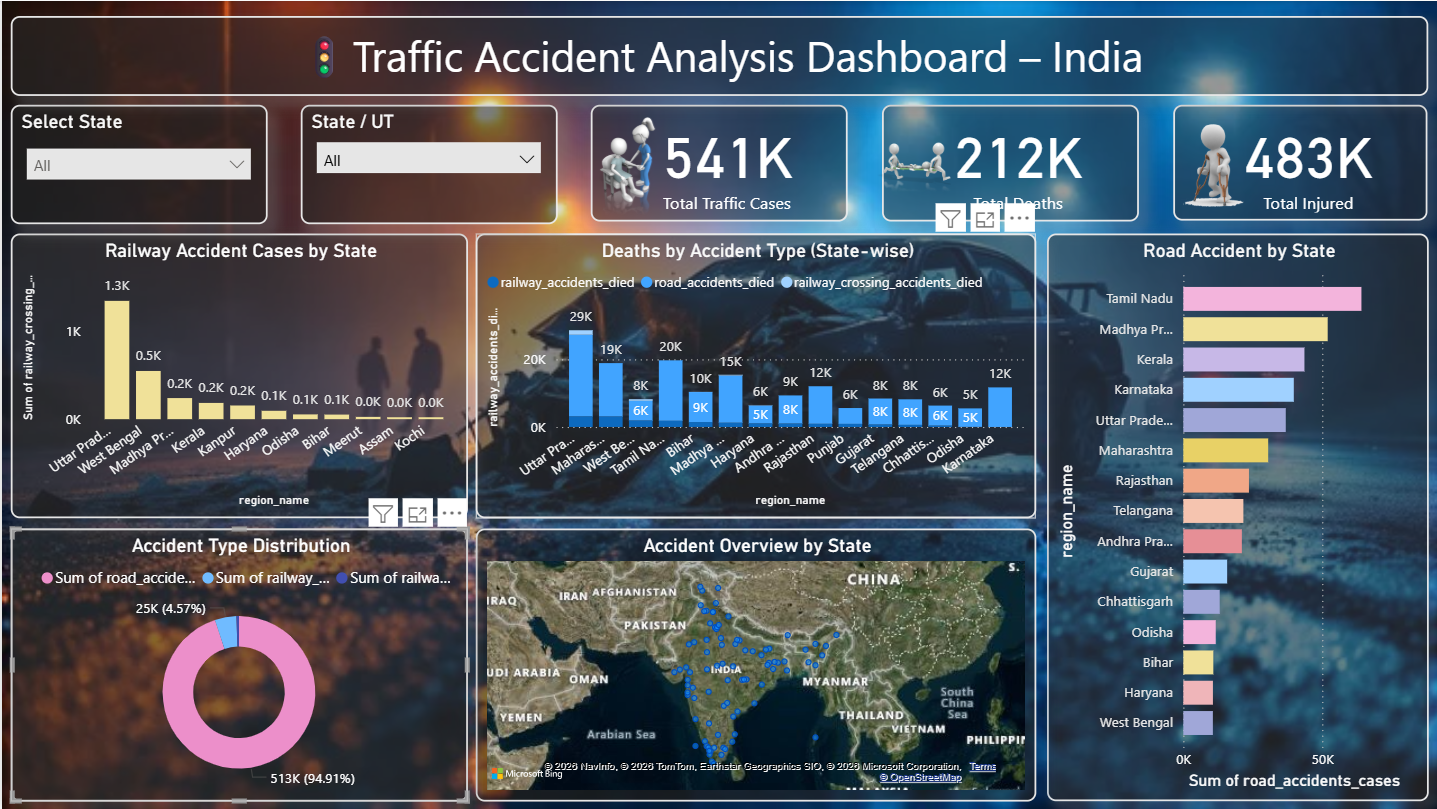

This screenshot's page, from the dashboard's own definition file:
{"tool":"powerbi","page":{"name":"Traffic Accident Analysis – India","canvas":[1280,720],"ordinal":0},"visuals":[{"type":"card","title":"Total Accident Cases","fields":{"Values":["cleaned_traffic_accident_data_3.Total Traffic Cases"]},"box":[524.6,92.4,228.6,103.7],"z":0},{"type":"card","title":"Total Injured","fields":{"Values":["cleaned_traffic_accident_data_3.Total Injured"]},"box":[1043,91.9,226.7,103.5],"z":1000},{"type":"card","title":"Total Deaths","fields":{"Values":["cleaned_traffic_accident_data_3.Total Deaths"]},"box":[783.1,92.4,228.6,103.7],"z":2000},{"type":"barChart","title":"Road Accident by State","fields":{"Category":["cleaned_traffic_accident_data_3.region_name"],"Y":["Sum(cleaned_traffic_accident_data_3.road_accidents_cases)"]},"box":[930.5,207.3,339.7,505.9],"z":3000},{"type":"clusteredColumnChart","title":"Railway Accident Cases by State","fields":{"Category":["cleaned_traffic_accident_data_3.region_name"],"Y":["Sum(cleaned_traffic_accident_data_3.railway_crossing_accidents_cases)"]},"box":[7.5,207.3,407.2,253.6],"z":4000},{"type":"donutChart","title":"Accident Type Distribution","fields":{"Y":["Sum(cleaned_traffic_accident_data_3.road_accidents_cases)","Sum(cleaned_traffic_accident_data_3.railway_accidents_cases)","Sum(cleaned_traffic_accident_data_3.railway_crossing_accidents_cases)"]},"box":[7.5,469.6,407.2,243.6],"z":5000},{"type":"columnChart","title":"Deaths by Accident Type (State-wise)","fields":{"Category":["cleaned_traffic_accident_data_3.region_name"],"Y":["Sum(cleaned_traffic_accident_data_3.railway_accidents_died)","Sum(cleaned_traffic_accident_data_3.road_accidents_died)","Sum(cleaned_traffic_accident_data_3.railway_crossing_accidents_died)"]},"box":[422.1,207,498.8,253.5],"z":6000},{"type":"slicer","title":"Select State ","fields":{"Values":["cleaned_traffic_accident_data_3.region_name"]},"box":[7.5,92.4,228.6,106.2],"z":7000},{"type":"slicer","title":"State / UT","fields":{"Values":["cleaned_traffic_accident_data_3.region_type"]},"box":[266,92.4,228.6,106.2],"z":8000},{"type":"textbox","box":[7.5,13.7,1262.8,71.2],"z":9000},{"type":"map","title":"Accident Overview by State","fields":{"Category":["cleaned_traffic_accident_data_3.region_name"]},"box":[422.1,469.8,498.8,243],"z":10000},{"type":"image","box":[1030.3,85.7,83.2,121.9],"z":10001},{"type":"image","box":[516.4,97.7,80.8,97.7],"z":10002},{"type":"image","box":[774.5,92.9,82,109.8],"z":10003}]}

Visuals, with their boxes in screenshot pixels (x1, y1, x2, y2), scaled from the page's 1280x720 canvas onto the 1437x809 screenshot:
"Total Accident Cases" card: crop(589, 104, 846, 220)
"Total Injured" card: crop(1171, 103, 1425, 220)
"Total Deaths" card: crop(879, 104, 1136, 220)
"Road Accident by State" barChart: crop(1045, 233, 1426, 801)
"Railway Accident Cases by State" clusteredColumnChart: crop(8, 233, 466, 518)
"Accident Type Distribution" donutChart: crop(8, 528, 466, 801)
"Deaths by Accident Type (State-wise)" columnChart: crop(474, 233, 1034, 517)
"Select State " slicer: crop(8, 104, 265, 223)
"State / UT" slicer: crop(299, 104, 555, 223)
textbox: crop(8, 15, 1426, 95)
"Accident Overview by State" map: crop(474, 528, 1034, 801)
image: crop(1157, 96, 1250, 233)
image: crop(580, 110, 670, 220)
image: crop(869, 104, 962, 228)
